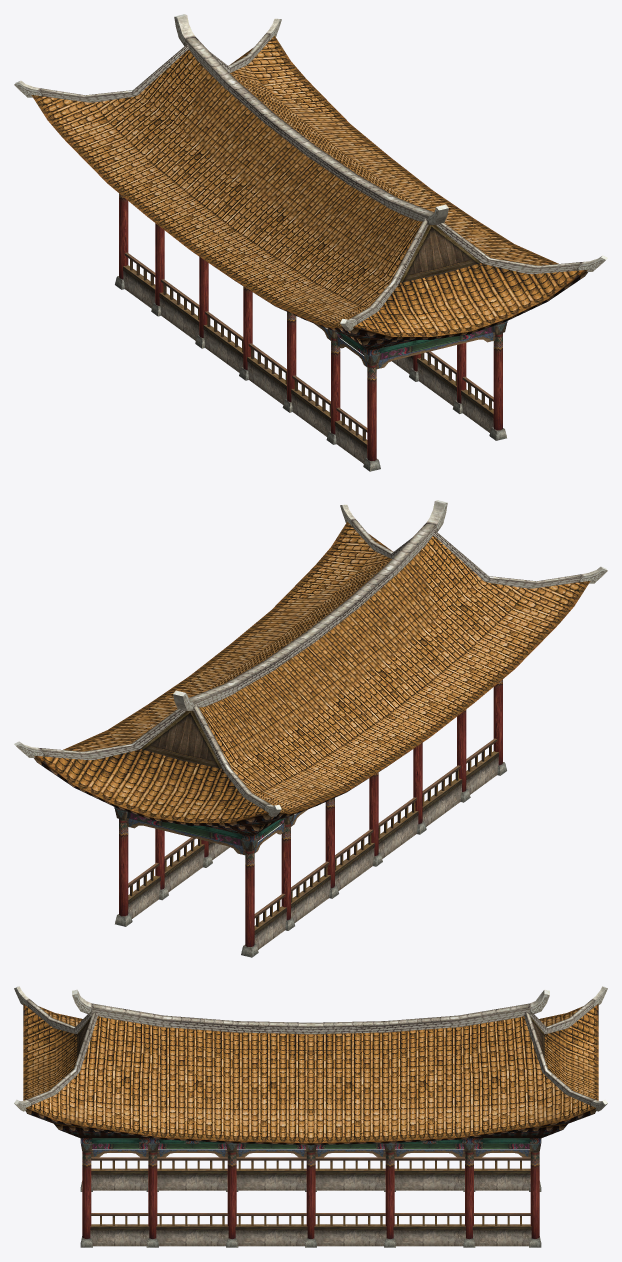
The model's file is otherworld_house_02.glb.
3 renders of one model, top to bottom at view 1: azimuth 30°, elevation 25°; view 2: azimuth 150°, elevation 25°; view 3: azimuth 270°, elevation 25°, orthographic. The views are drawn at different scales.
Parts seen in each view (by area): view 1: otherworld_house_02; view 2: otherworld_house_02; view 3: otherworld_house_02.
Part boxes in pixels (left/top/right/bottom): otherworld_house_02: left=14, top=14, right=607, bottom=471; otherworld_house_02: left=14, top=500, right=607, bottom=957; otherworld_house_02: left=14, top=986, right=607, bottom=1247.
Size of the model in its own units: 14.13 by 12.62 by 30.06.
Materials: 2 (2 with a texture image).
